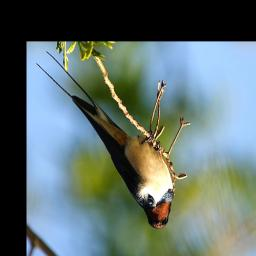Swallow: (36, 50, 173, 230)
